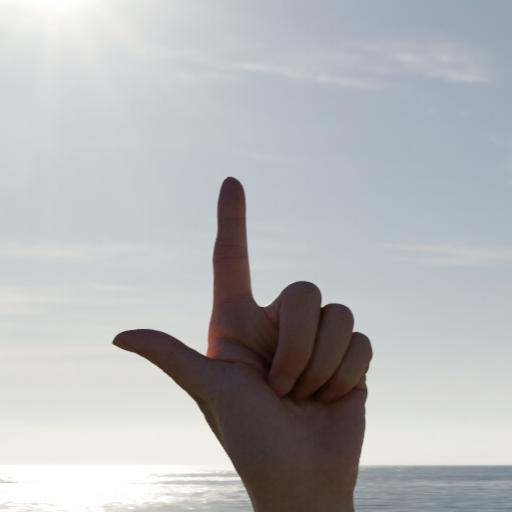L: (100, 158, 422, 512)
